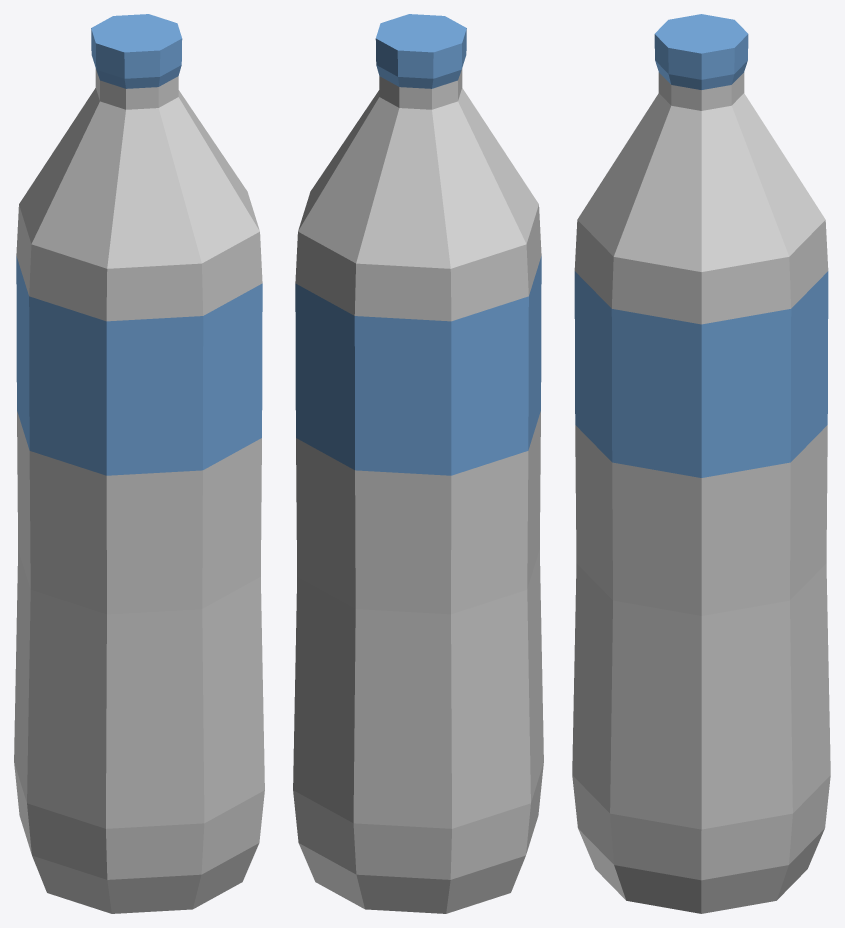
File: Bottle.fbx
3 renders of one model, left to right at view 1: azimuth 30°, elevation 25°; view 2: azimuth 150°, elevation 25°; view 3: azimuth 270°, elevation 25°, orthographic.
Visible parts, largest first — view 1: Bottle; view 2: Bottle; view 3: Bottle.
Part boxes in pixels (left/top/right/bottom): Bottle: left=14, top=14, right=264, bottom=913; Bottle: left=293, top=14, right=543, bottom=913; Bottle: left=572, top=14, right=830, bottom=913.
Size of the model in its own units: 84.61 by 301 by 84.61.
